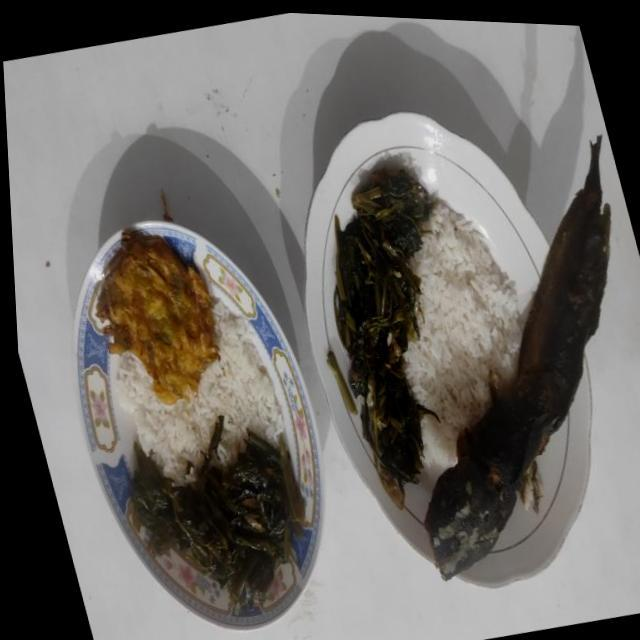nasi_putih: (402, 202, 524, 467), (114, 302, 284, 484)
tumis_kangkung: (326, 166, 438, 508), (127, 430, 302, 608)
